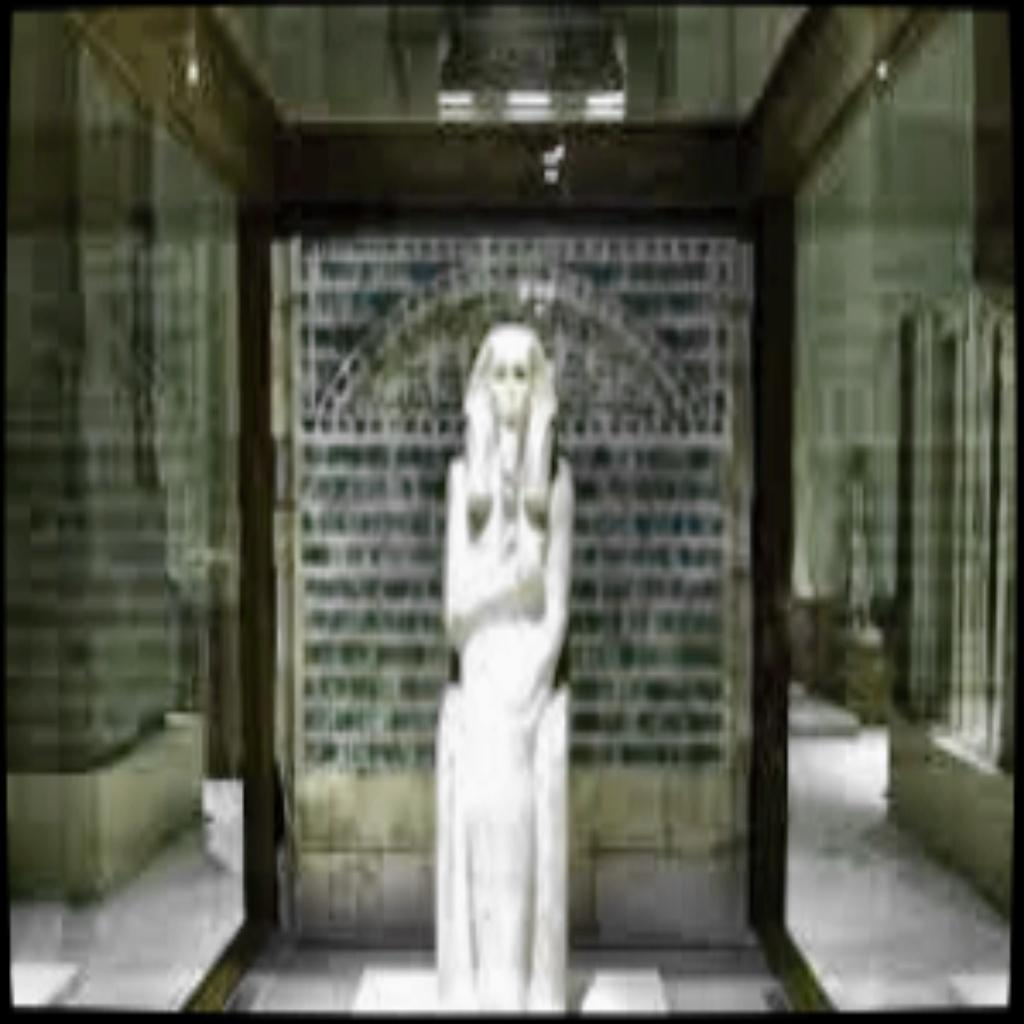Statue of King Zoser: (428, 311, 575, 1012)
